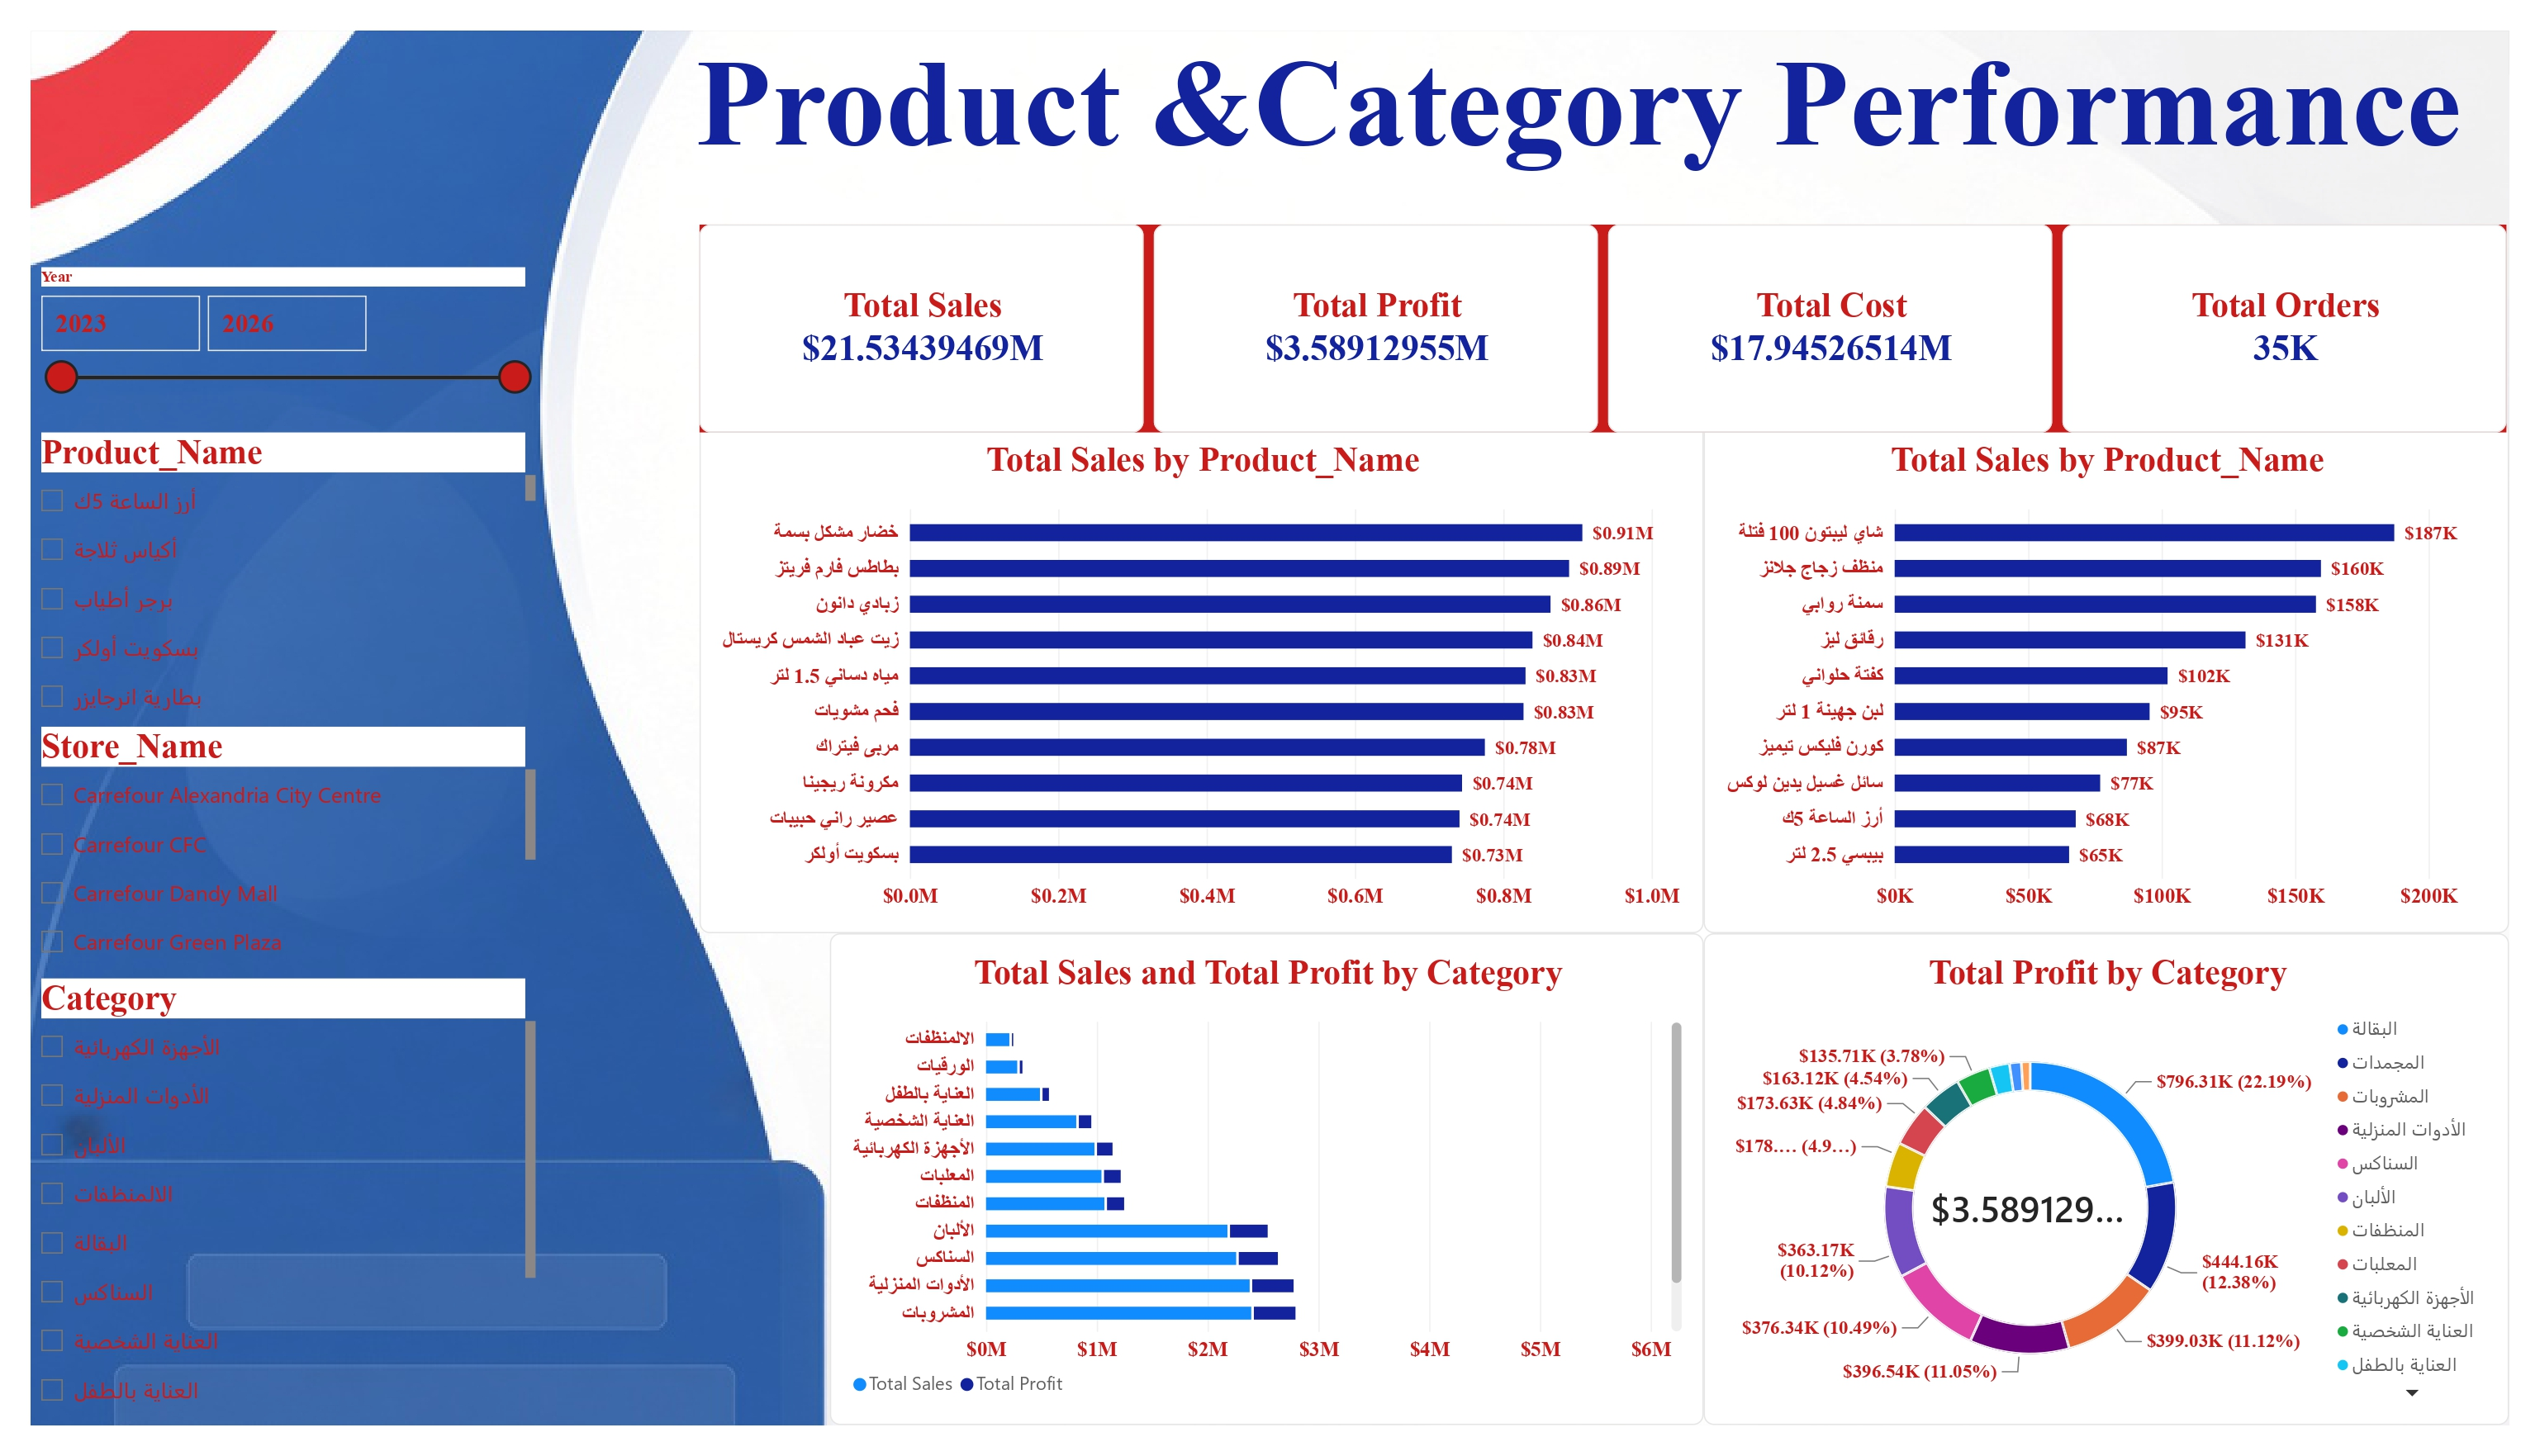

This screenshot's page, from the dashboard's own definition file:
{"tool":"powerbi","page":{"name":"Product & Category Performance","canvas":[1920,1080],"ordinal":2},"visuals":[{"type":"clusteredBarChart","fields":{"Category":["Dim_Products.Product_Name"],"Y":["Table.Total Sales"]},"box":[517.6,302.2,778.2,396.3],"z":0},{"type":"clusteredBarChart","fields":{"Category":["Dim_Products.Product_Name"],"Y":["Table.Total Sales"]},"box":[1295.7,302.2,624.3,396.3],"z":1000},{"type":"barChart","fields":{"Category":["Dim_Products.Category"],"Y":["Table.Total Sales","Table.Total Profit"]},"box":[618.9,698.5,676.8,381.8],"z":2000},{"type":"donutChart","fields":{"Category":["Dim_Products.Category"],"Y":["Table.Total Profit"]},"box":[1295.7,698.5,624.3,381.8],"z":3000},{"type":"slicer","fields":{"Values":["Calendar.Year"]},"box":[0,182.8,390.9,119.4],"z":3001},{"type":"slicer","fields":{"Values":["Dim_Products.Product_Name"]},"box":[0,311.3,390.9,228],"z":3002},{"type":"slicer","fields":{"Values":["Dim_Stores.Store_Name"]},"box":[0,539.3,390.9,195.4],"z":3003},{"type":"slicer","fields":{"Values":["Dim_Products.Category"]},"box":[0,734.4,390.9,345.6],"z":3004},{"type":"cardVisual","fields":{"Data":["Table.Total Sales","Table.Total Profit","Table.Total Cost","Table.Total Orders"]},"box":[517.6,150.2,1402.5,161.1],"z":3005},{"type":"textbox","box":[478,0,1442,150],"z":3006}]}

Visuals, with their boxes on the page's 1920x1080 design canvas (x1, y1, x2, y2). These are canvas units, not pixel positions in the 2540x1456 screenshot, which may show the page scaled, cropped or inside an application window:
clusteredBarChart - Dim_Products.Product_Name x Table.Total Sales: <bbox>518, 302, 1296, 698</bbox>
clusteredBarChart - Dim_Products.Product_Name x Table.Total Sales: <bbox>1296, 302, 1920, 698</bbox>
barChart - Dim_Products.Category x Table.Total Sales: <bbox>619, 698, 1296, 1080</bbox>
donutChart - Dim_Products.Category x Table.Total Profit: <bbox>1296, 698, 1920, 1080</bbox>
slicer - Calendar.Year: <bbox>0, 183, 391, 302</bbox>
slicer - Dim_Products.Product_Name: <bbox>0, 311, 391, 539</bbox>
slicer - Dim_Stores.Store_Name: <bbox>0, 539, 391, 735</bbox>
slicer - Dim_Products.Category: <bbox>0, 734, 391, 1080</bbox>
cardVisual - Table.Total Sales x Table.Total Profit: <bbox>518, 150, 1920, 311</bbox>
textbox: <bbox>478, 0, 1920, 150</bbox>
